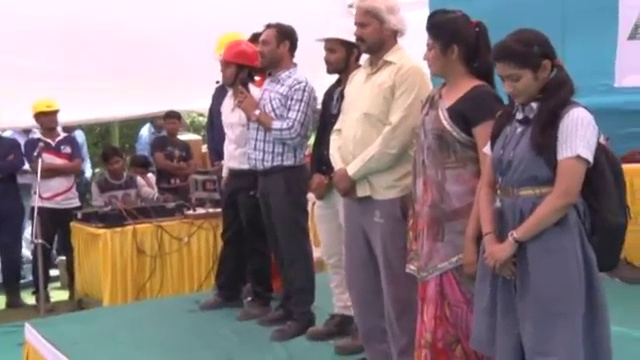helmet: (221, 38, 262, 72), (316, 16, 359, 48), (30, 99, 60, 117)
helmet_off: (493, 22, 566, 112), (419, 6, 489, 85), (349, 2, 406, 57), (249, 21, 301, 76), (99, 141, 125, 176), (127, 153, 152, 186), (163, 111, 182, 140)
helmet_on: (219, 38, 264, 93), (319, 24, 362, 80), (30, 99, 61, 137)
person: (481, 21, 630, 360), (405, 7, 506, 360), (331, 0, 415, 360), (236, 21, 321, 343), (303, 17, 364, 357), (203, 37, 266, 333), (29, 96, 85, 315), (91, 140, 172, 218), (150, 112, 195, 208), (0, 132, 24, 309)
